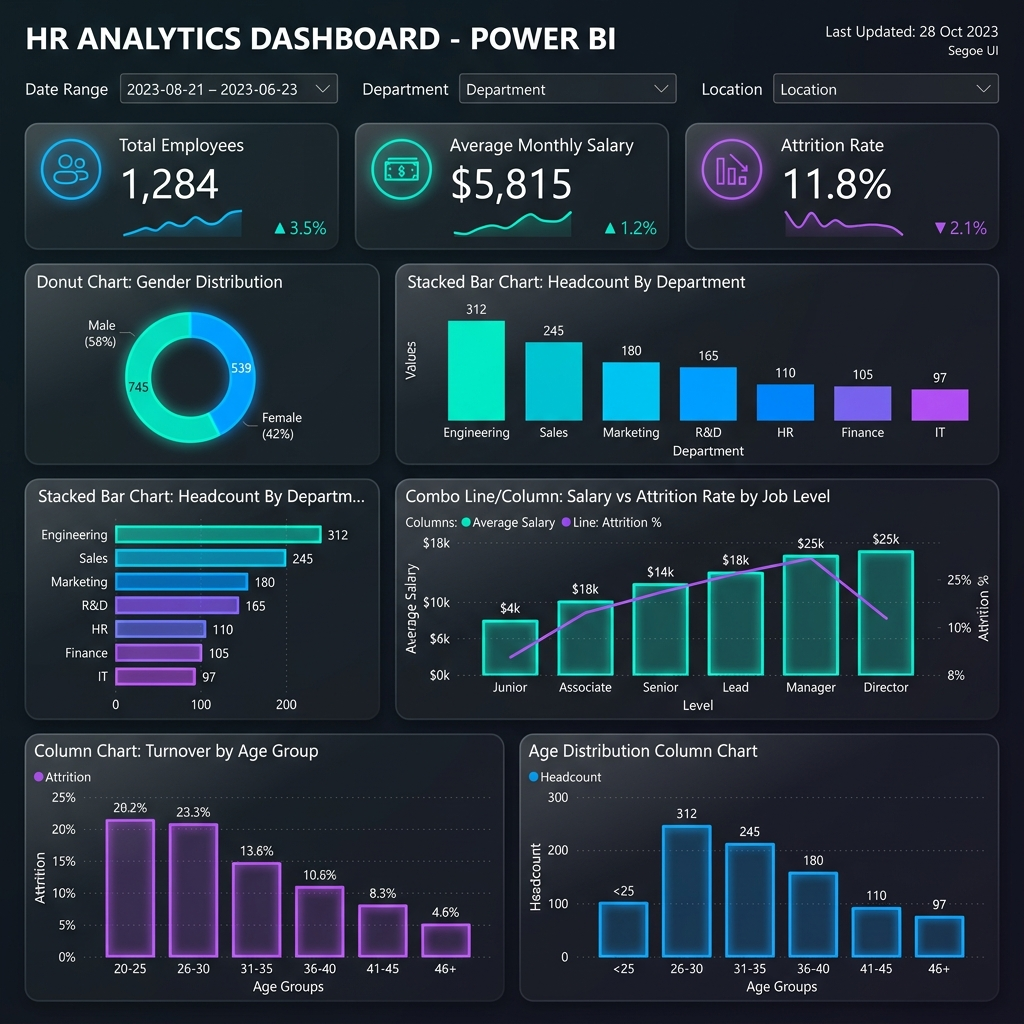

The page's visual inventory and layout, read from the dashboard file:
{"tool":"powerbi","page":{"name":"Page 1","canvas":[1280,720],"ordinal":0},"visuals":[{"type":"textbox","box":[0,0,1280,64],"z":0},{"type":"cardVisual","title":"Total no. of Employees","fields":{"Data":["WA_Fn-UseC_-HR-Employee-Attrition.Headcount"]},"box":[16,80,192,144],"z":1000},{"type":"cardVisual","title":"Employees ≤1 year","fields":{"Data":["WA_Fn-UseC_-HR-Employee-Attrition.New Hires"]},"box":[16,560,192,144],"z":2000},{"type":"cardVisual","title":"Average Monthly Salary","fields":{"Data":["WA_Fn-UseC_-HR-Employee-Attrition.Average Salary"]},"box":[16,240,192,144],"z":3000},{"type":"cardVisual","title":"Employees left (in %)","fields":{"Data":["WA_Fn-UseC_-HR-Employee-Attrition.Turnover Rate"]},"box":[16,400,192,144],"z":4000},{"type":"donutChart","title":"Gender Distribution","fields":{"Category":["WA_Fn-UseC_-HR-Employee-Attrition.Gender"],"Y":["CountNonNull(WA_Fn-UseC_-HR-Employee-Attrition.Gender)"]},"box":[240,80,368,256],"z":5000},{"type":"clusteredBarChart","title":"Headcount By Department","fields":{"Category":["WA_Fn-UseC_-HR-Employee-Attrition.Department"],"Y":["Sum(WA_Fn-UseC_-HR-Employee-Attrition.EmployeeNumber)"]},"box":[240,352,368,176],"z":6000},{"type":"columnChart","title":"Employees By Education Field","fields":{"Category":["WA_Fn-UseC_-HR-Employee-Attrition.EducationField"],"Y":["Sum(WA_Fn-UseC_-HR-Employee-Attrition.EmployeeNumber)"]},"box":[240,544,368,160],"z":7000},{"type":"barChart","title":"Employees By Job Role","fields":{"Category":["WA_Fn-UseC_-HR-Employee-Attrition.JobRole"],"Y":["Sum(WA_Fn-UseC_-HR-Employee-Attrition.EmployeeNumber)"]},"box":[960,80,288,304],"z":8000},{"type":"clusteredColumnChart","title":"Turnover by Department","fields":{"Category":["WA_Fn-UseC_-HR-Employee-Attrition.Department"],"Y":["Sum(WA_Fn-UseC_-HR-Employee-Attrition.EmployeeCount)"]},"box":[640,352,288,176],"z":9000},{"type":"clusteredColumnChart","title":"Turnover by Age Group","fields":{"Category":["WA_Fn-UseC_-HR-Employee-Attrition.Age (bins)"],"Y":["Sum(WA_Fn-UseC_-HR-Employee-Attrition.EmployeeCount)"]},"box":[960,400,288,304],"z":10000},{"type":"lineClusteredColumnComboChart","title":"Salary vs Turnover Rate by Job Level","fields":{"Y":["Avg(WA_Fn-UseC_-HR-Employee-Attrition.MonthlyIncome)"],"Category":["WA_Fn-UseC_-HR-Employee-Attrition.JobLevel"],"Y2":["WA_Fn-UseC_-HR-Employee-Attrition.Attrition Rate"]},"box":[640,80,288,256],"z":11000},{"type":"clusteredColumnChart","title":"Age Distribution","fields":{"Y":["Sum(WA_Fn-UseC_-HR-Employee-Attrition.EmployeeNumber)"],"Category":["WA_Fn-UseC_-HR-Employee-Attrition.Age (bins)"]},"box":[640,544,288,160],"z":12000}]}

Visuals, with their boxes on the page's 1280x720 design canvas (x1, y1, x2, y2). These are canvas units, not pixel positions in the 1024x1024 screenshot, which may show the page scaled, cropped or inside an application window:
textbox: <box>0,0,1280,64</box>
"Total no. of Employees" cardVisual: <box>16,80,208,224</box>
"Employees ≤1 year" cardVisual: <box>16,560,208,704</box>
"Average Monthly Salary" cardVisual: <box>16,240,208,384</box>
"Employees left (in %)" cardVisual: <box>16,400,208,544</box>
"Gender Distribution" donutChart: <box>240,80,608,336</box>
"Headcount By Department" clusteredBarChart: <box>240,352,608,528</box>
"Employees By Education Field" columnChart: <box>240,544,608,704</box>
"Employees By Job Role" barChart: <box>960,80,1248,384</box>
"Turnover by Department" clusteredColumnChart: <box>640,352,928,528</box>
"Turnover by Age Group" clusteredColumnChart: <box>960,400,1248,704</box>
"Salary vs Turnover Rate by Job Level" lineClusteredColumnComboChart: <box>640,80,928,336</box>
"Age Distribution" clusteredColumnChart: <box>640,544,928,704</box>
